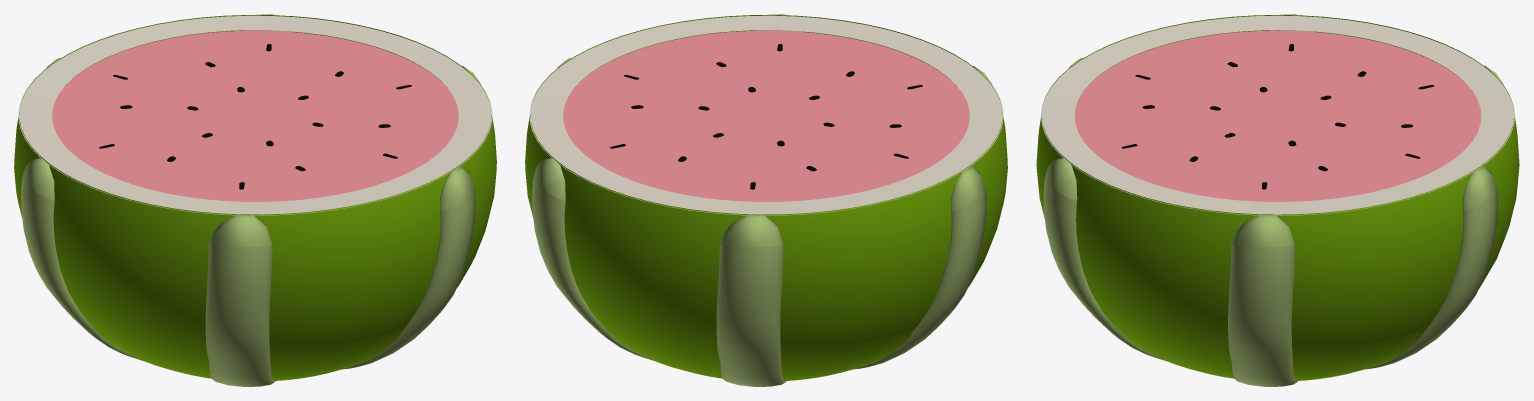
The model's file is fruit_melon.glb.
3 renders of one model, left to right at view 1: azimuth 30°, elevation 25°; view 2: azimuth 150°, elevation 25°; view 3: azimuth 270°, elevation 25°, orthographic.
Visible parts, largest first — view 1: r0002.14514, r0000.42284, s0003.62287, r0001.59200; view 2: r0002.14514, r0000.42284, s0003.62287, r0001.59200; view 3: r0002.14514, r0000.42284, s0003.62287, r0001.59200.
Part boxes in pixels (x1,y1,x2,y2): r0002.14514: (52, 30, 458, 201); r0000.42284: (14, 15, 496, 380); s0003.62287: (21, 14, 481, 386); r0001.59200: (18, 15, 492, 215); r0002.14514: (563, 30, 969, 201); r0000.42284: (525, 15, 1007, 380); s0003.62287: (532, 14, 992, 386); r0001.59200: (529, 15, 1003, 215); r0002.14514: (1074, 30, 1481, 201); r0000.42284: (1036, 15, 1519, 380); s0003.62287: (1043, 14, 1503, 386); r0001.59200: (1041, 15, 1514, 215).
Size of the model in its own units: 0.865 by 0.4514 by 0.8346.
